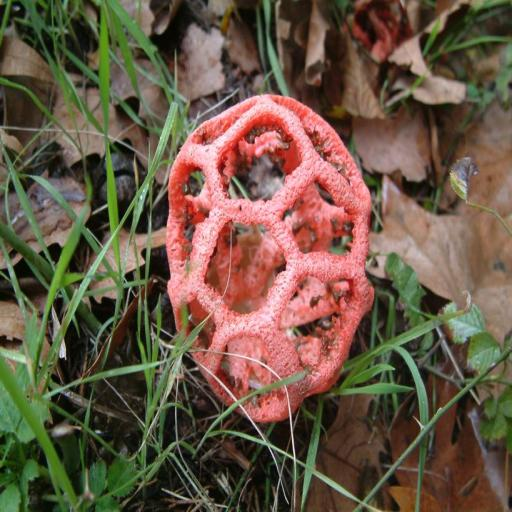Red Cage Fungus: (167, 95, 378, 425)
